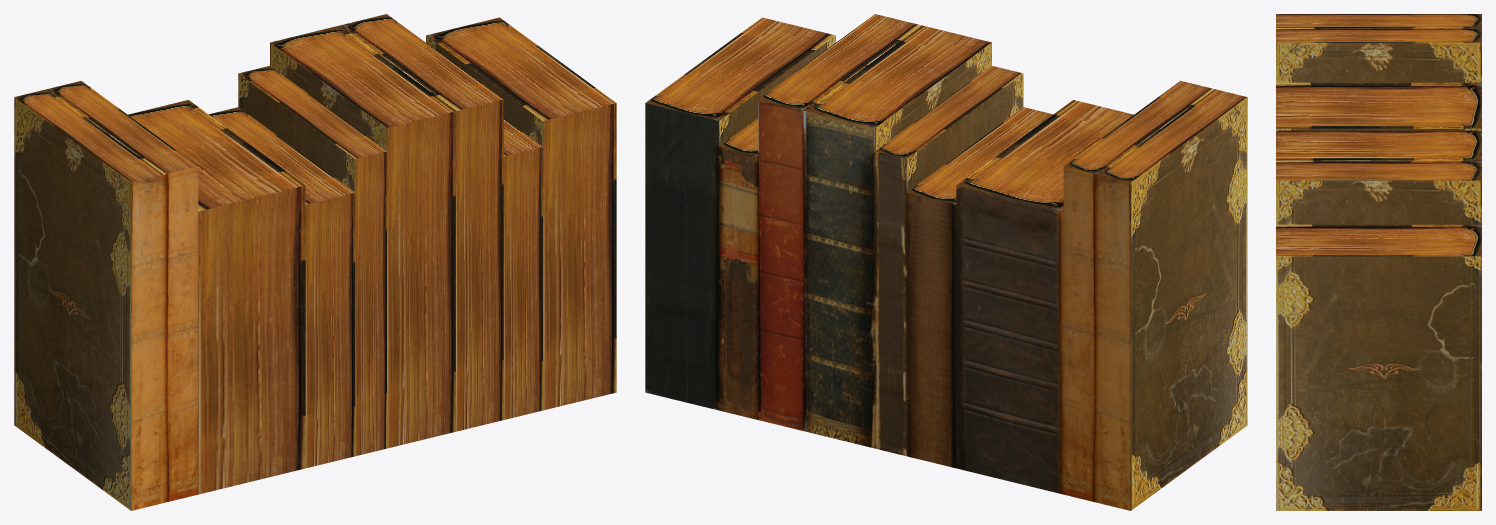
The model's file is books.fbx.
The picture shows the model from 3 angles, left to right: view 1: azimuth 30°, elevation 25°; view 2: azimuth 150°, elevation 25°; view 3: azimuth 270°, elevation 25°; orthographic projection. The views are drawn at different scales.
Visible parts, largest first — view 1: Mesh; view 2: Mesh; view 3: Mesh.
Boxes of the visible parts, x1=… form: Mesh: x1=14, y1=14, x2=616, y2=510; Mesh: x1=645, y1=14, x2=1247, y2=510; Mesh: x1=1276, y1=14, x2=1481, y2=510.
Size of the model in its own units: 96.33 by 62.26 by 40.2.
